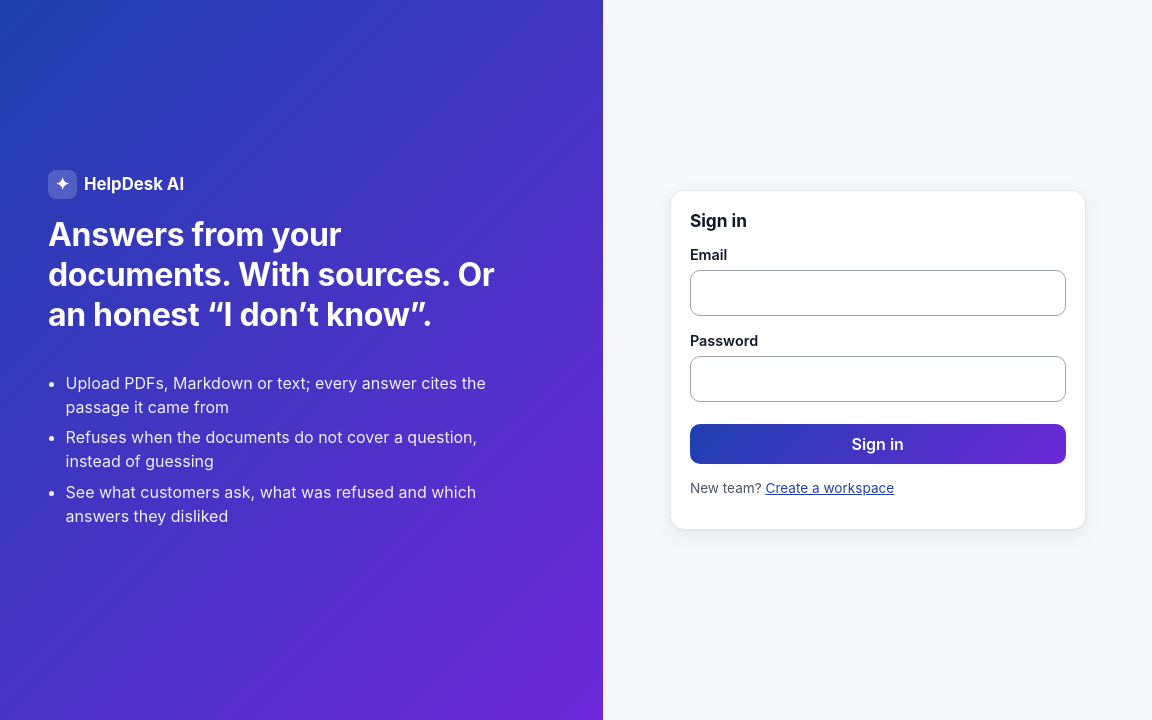
Test case: sign in › signs in and shows the workspace's knowledge bases
This screenshot has width=1152, height=720.
Type "admin@helpdesk.example" into the field labelled "Email" at point(878, 293), box [690,270,1066,316]
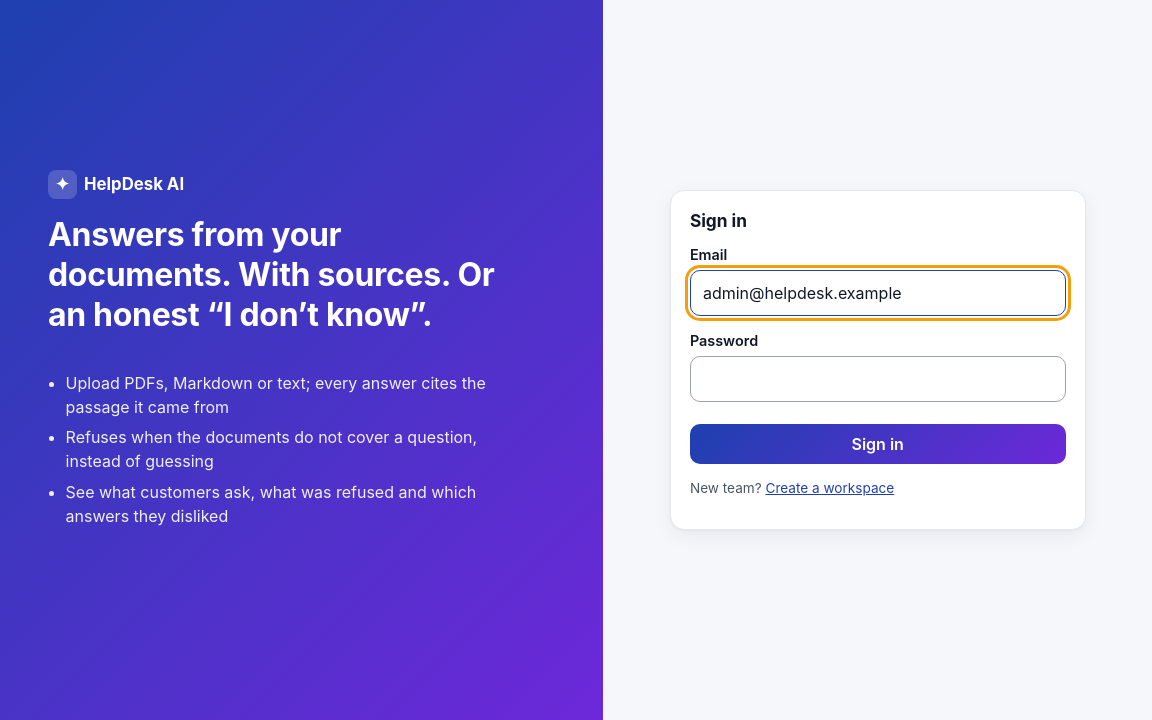
Type "demo-password-123" into the password field labelled "Password" at point(878, 379), box [690,356,1066,402]
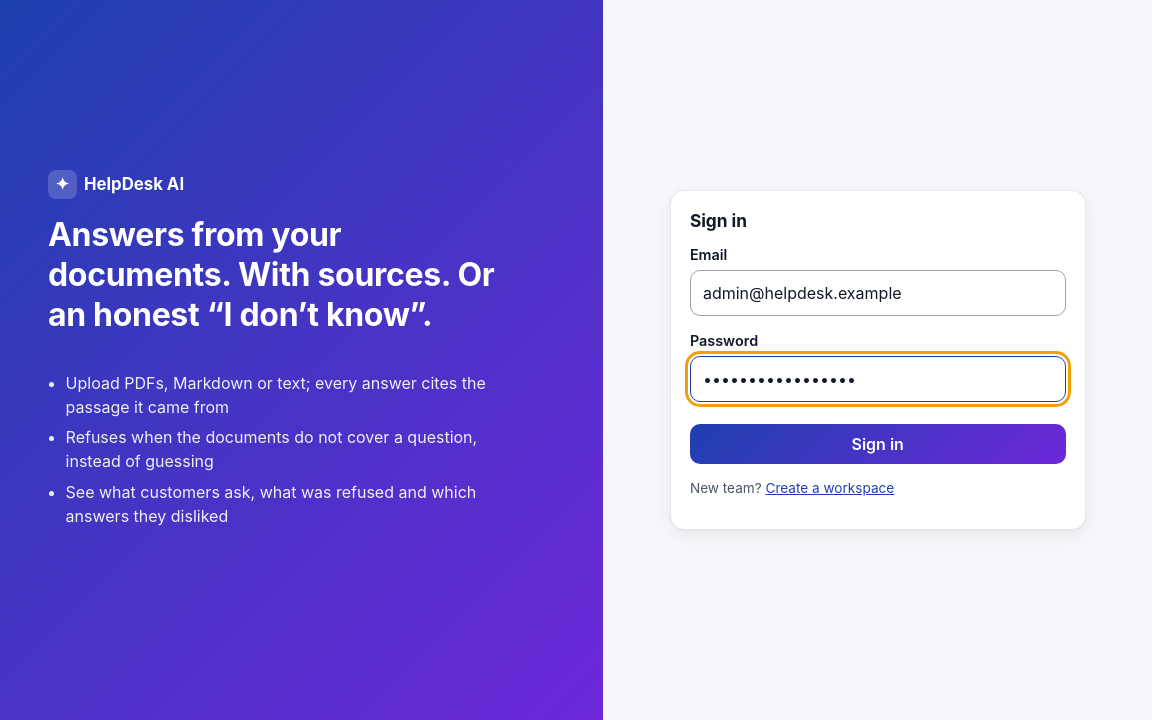
Click the button "Sign in" at point(878, 444), box [690,424,1066,464]
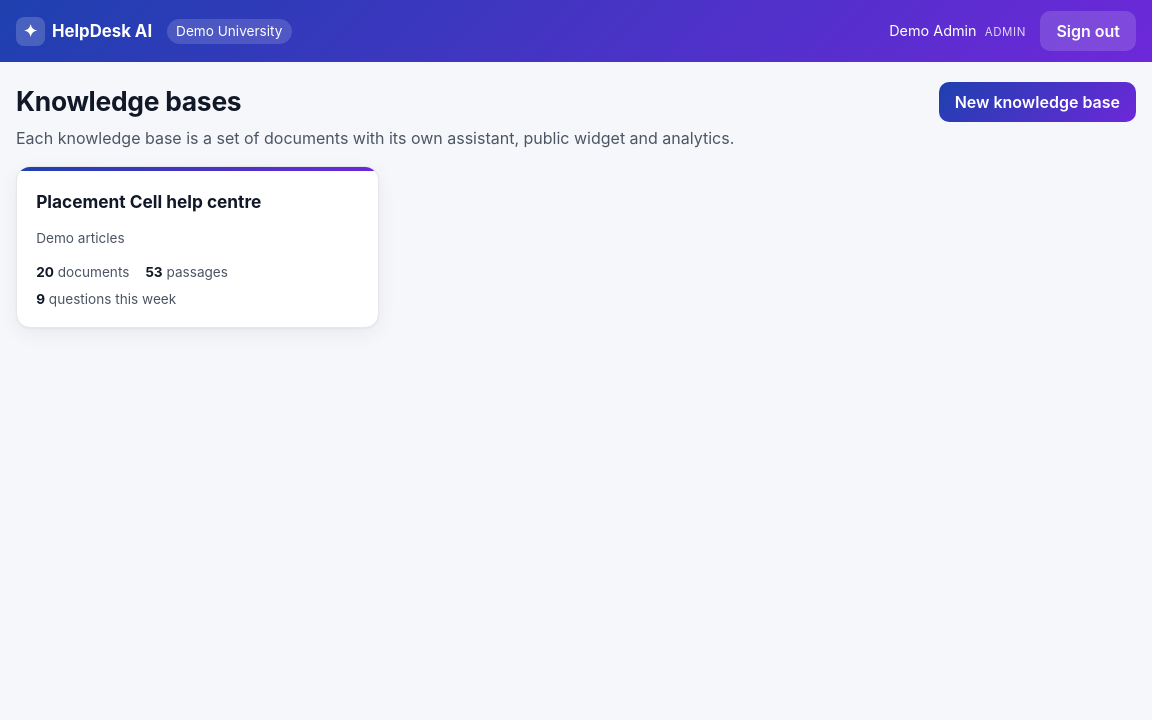
Expected: the heading "Placement Cell help centre" is shown, [36,191,261,212]
